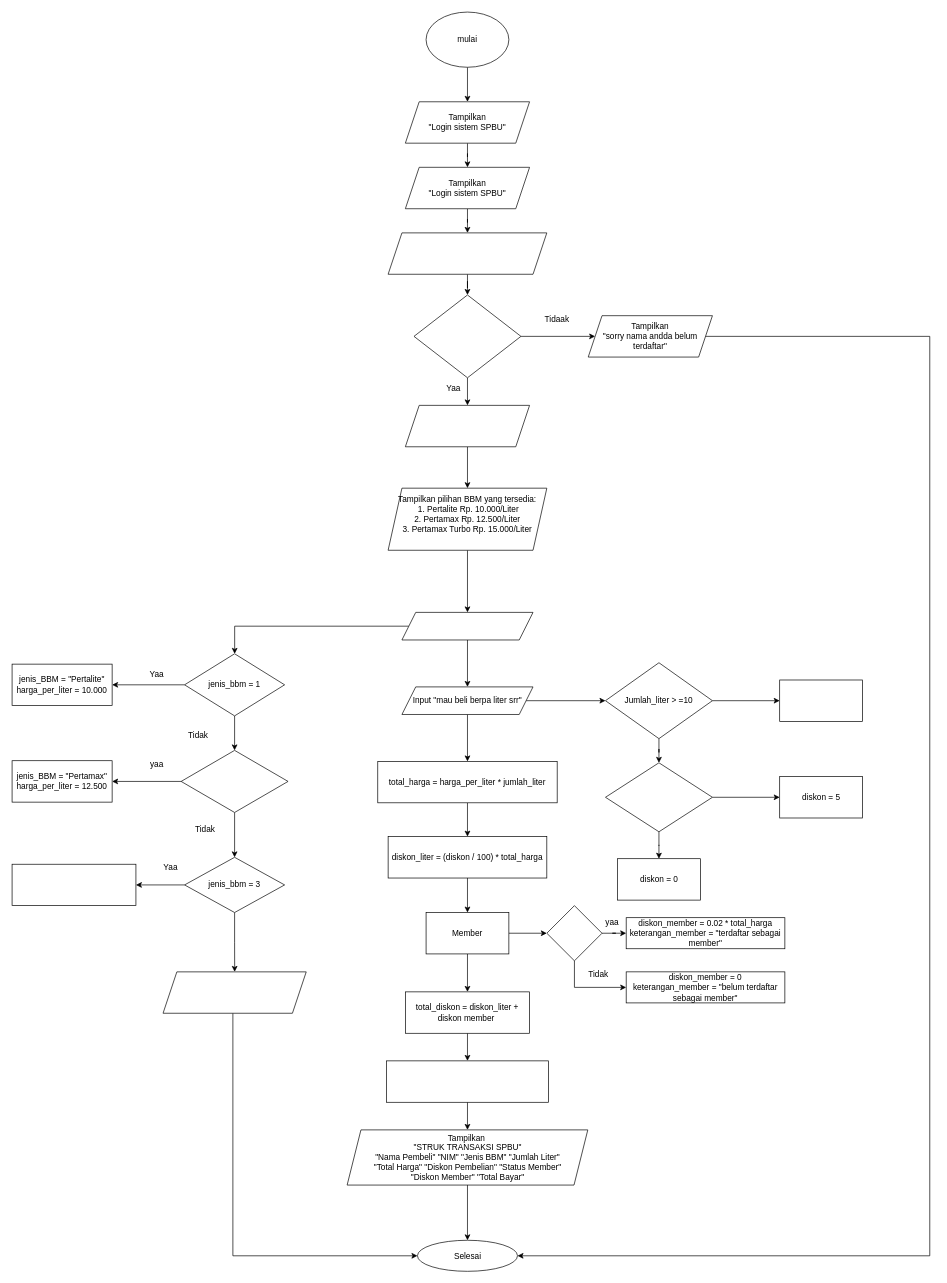
The diagram is 947 pixels wide and 1283 high, and some of its shapes have lost their labels. The box of each missing label's shape, as (x1, y1, x2, y2) in pixels:
Ada: (546, 905, 602, 961)
diskon = 10: (779, 679, 862, 721)
Input "pilih jenis BBM yang anda ,mau (1-3)": (401, 612, 533, 640)
Input nama dan kode anggota (NIM): (387, 232, 547, 274)
jenis_BBM = "Pertamax Turbo" harga_per_liter = 15.000: (11, 864, 136, 906)
jenis_bbm = 2: (180, 750, 288, 812)
Jumlah_liter > =5: (605, 762, 712, 832)
nama == Rasyid AND nim == 19: (413, 294, 521, 378)
Tampilkan "Hallooo welcome back srrrr": (405, 405, 530, 447)
Tampilkan "Pilihan BBM tidak valid. Program selesai": (162, 971, 306, 1013)
total_bayar = total_harga - total_diskon: (386, 1060, 549, 1102)
